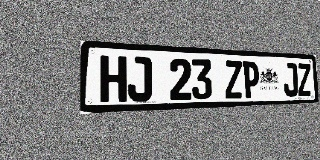2: (170, 58, 192, 100)
3: (192, 59, 212, 100)
H: (100, 55, 127, 103)
J: (127, 56, 152, 102), (283, 63, 298, 97)
P: (242, 61, 260, 98)
Z: (224, 60, 243, 99), (297, 63, 312, 96)
